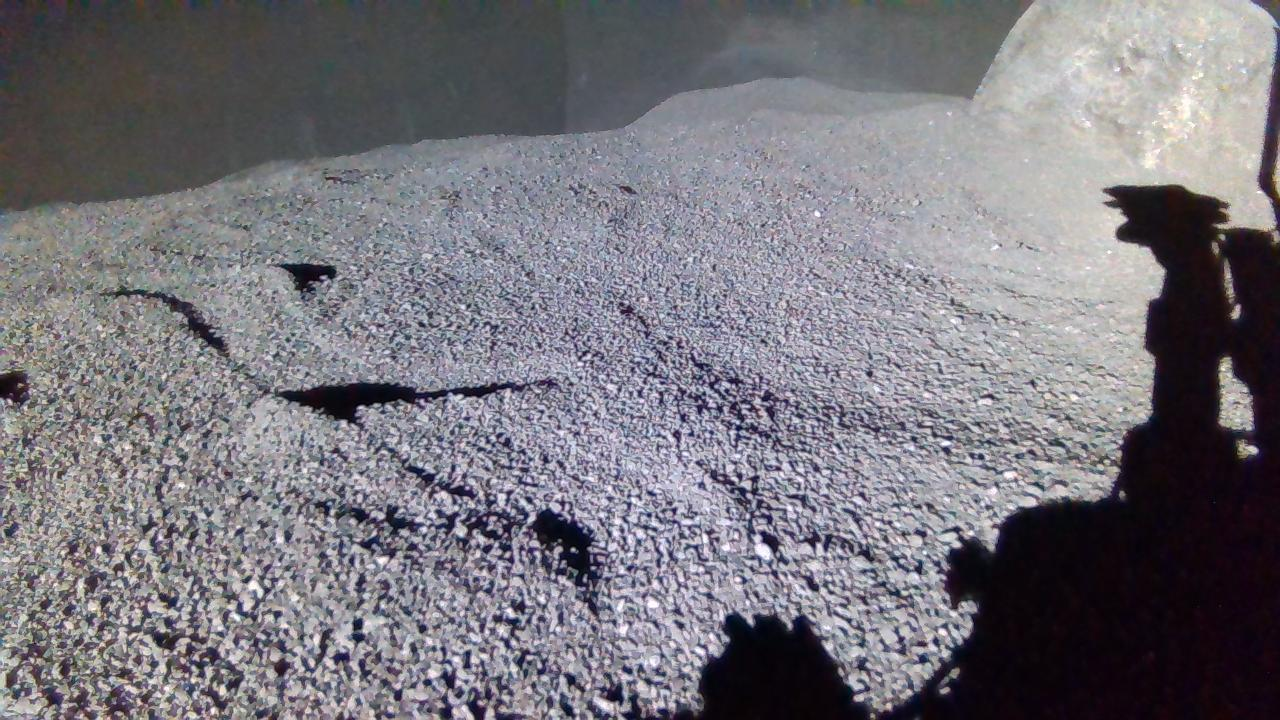rock: (966, 0, 1280, 185)
